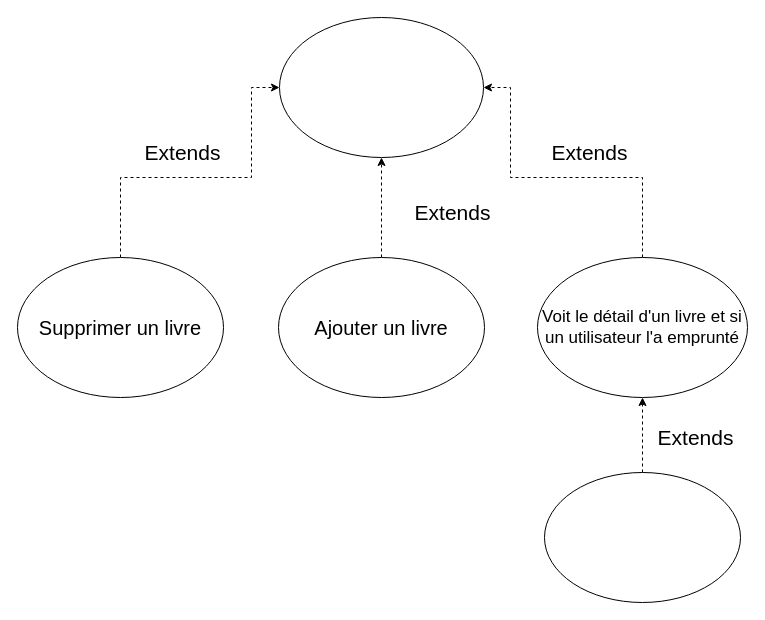
This 765x620 diagram has some shape labels left out. The shapes that lost their labels are listed below. From the top down, each one's box as (x1, y1, x2, y2) in pixels, then its label:
(278, 16, 484, 158): Voit tout les livres
(544, 472, 740, 602): Modifier le statut du livre choisi
